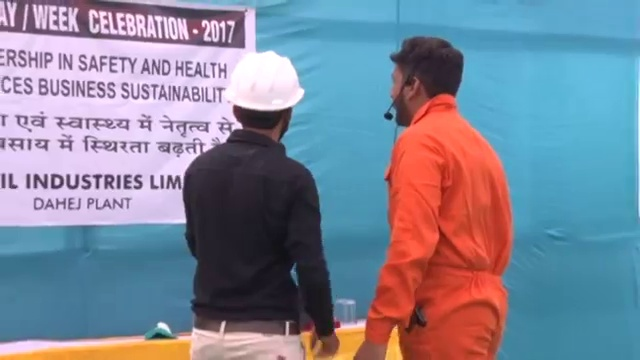helmet: (221, 51, 305, 111)
helmet_off: (384, 35, 465, 130)
helmet_on: (219, 51, 306, 140)
person: (351, 34, 515, 360), (180, 51, 340, 360)
